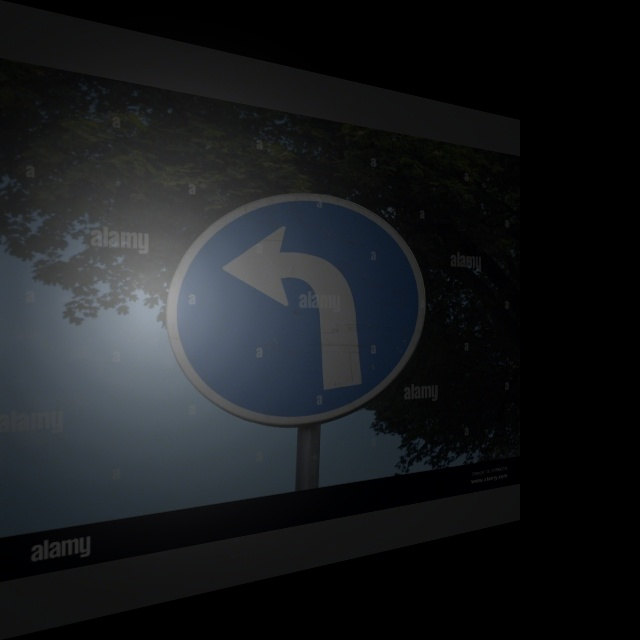Compulsory_Turn_Left_Ahead: (167, 176, 422, 442)
